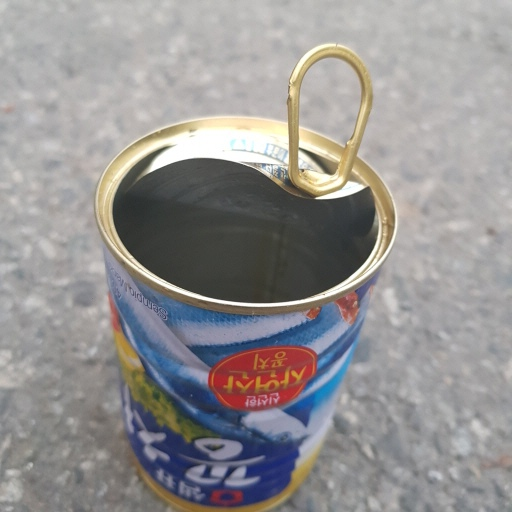Metal_1: (84, 45, 399, 512)
